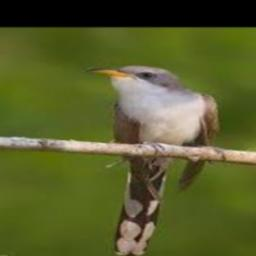Cuckoo: (84, 65, 220, 256)
